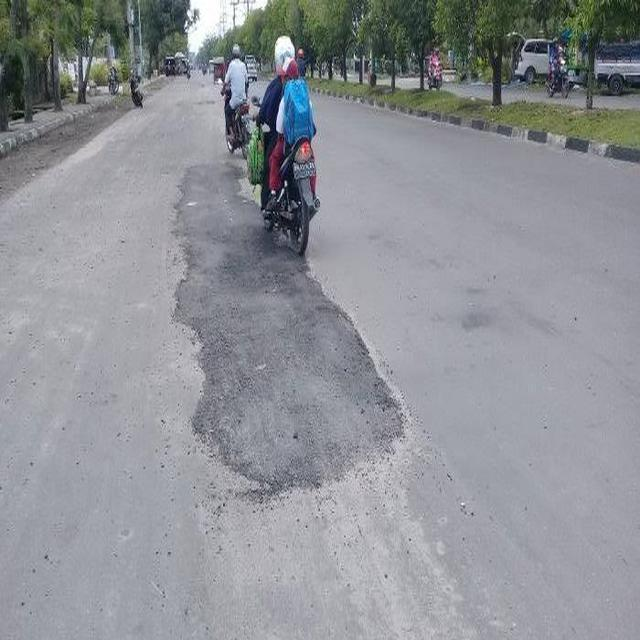Sambungan: (168, 166, 401, 487)
